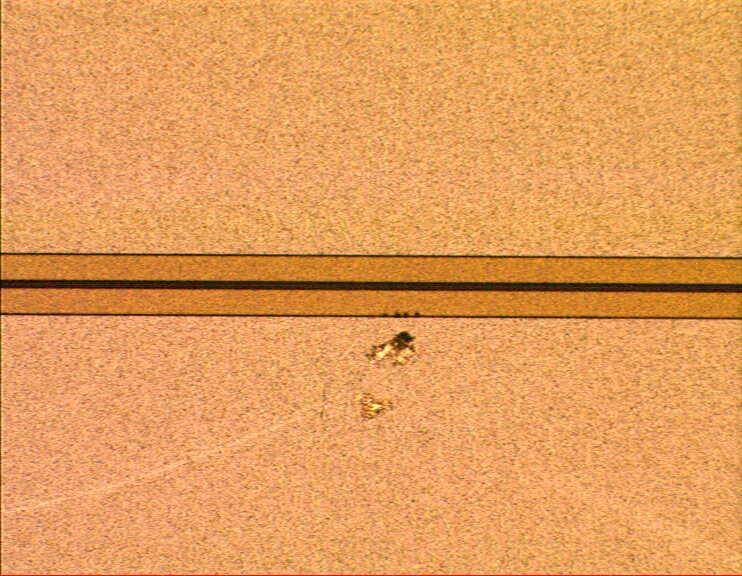SCRATCH: (1, 301, 742, 576)
